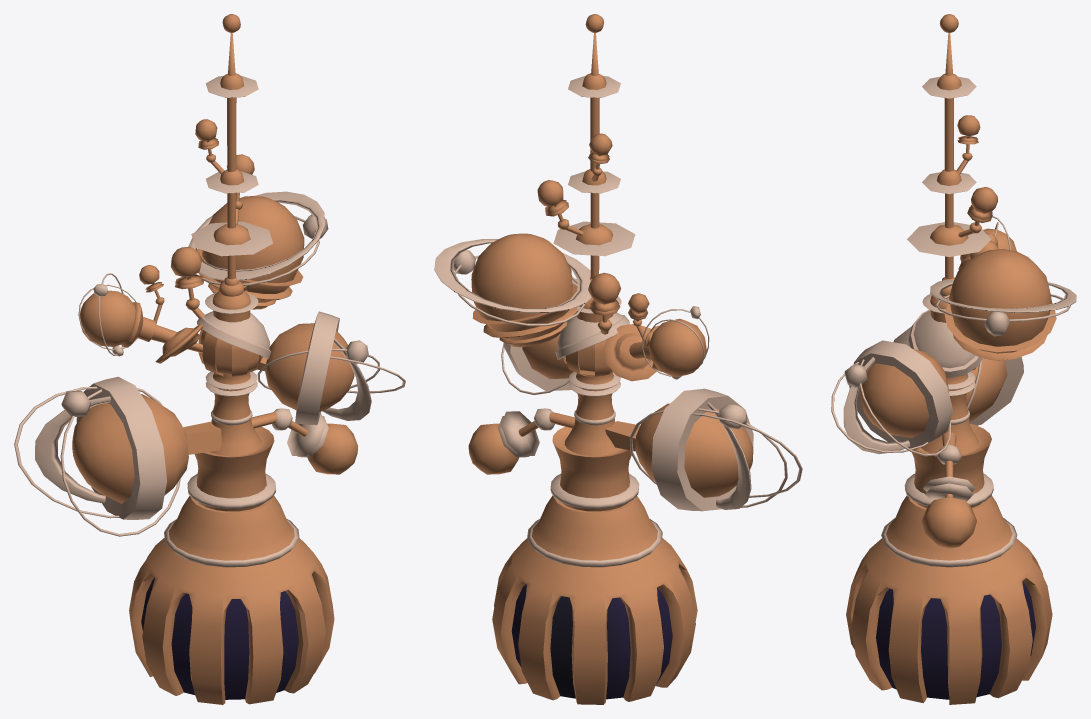
File: ENV_Planet_statue.fbx
The picture shows the model from 3 angles, left to right: view 1: azimuth 30°, elevation 25°; view 2: azimuth 150°, elevation 25°; view 3: azimuth 270°, elevation 25°; orthographic projection.
Visible parts, largest first — view 1: Spire_01; view 2: Spire_01; view 3: Spire_01.
Boxes of the visible parts, x1,y1,x2,y2 form: Spire_01: [14, 14, 405, 704]; Spire_01: [434, 14, 802, 704]; Spire_01: [831, 14, 1076, 704].
Bounding box in the file's own units: 1172 × 2201 × 747.
